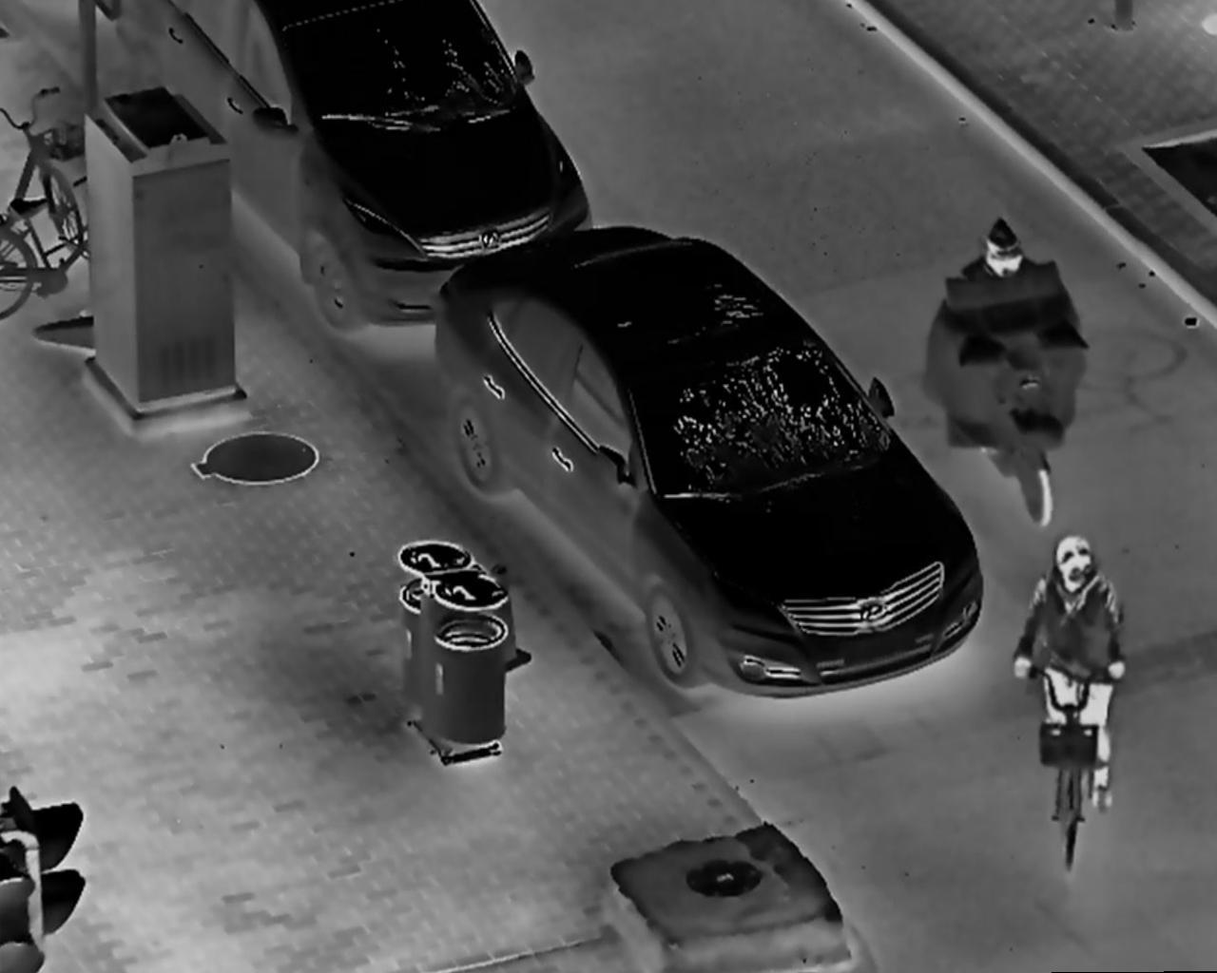person: (1013, 526, 1123, 811), (948, 204, 1059, 454)
